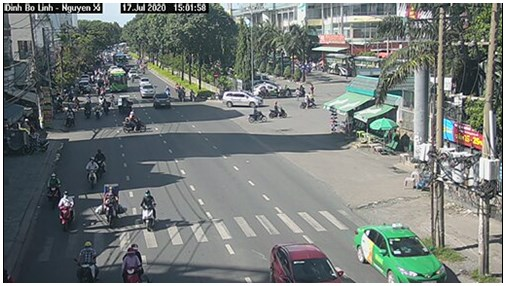xe_buyt: (107, 66, 128, 94)
xe_hoi: (350, 221, 454, 283), (267, 242, 345, 283), (221, 88, 264, 108), (152, 92, 171, 108), (139, 84, 154, 97)
xe_may: (93, 183, 125, 228), (120, 241, 153, 284), (72, 237, 103, 282), (56, 191, 78, 232), (140, 184, 157, 231), (121, 109, 148, 135), (44, 171, 63, 206), (81, 154, 98, 188), (268, 98, 290, 121), (246, 105, 267, 124), (296, 94, 318, 111), (63, 105, 79, 128), (92, 103, 104, 122), (175, 83, 185, 102), (83, 100, 92, 118), (189, 87, 196, 104)
